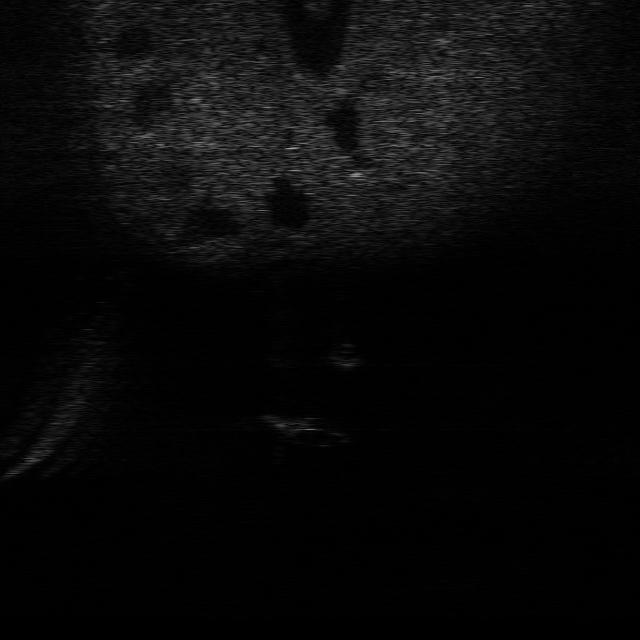ball: (322, 338, 370, 372)
square cage: (252, 404, 322, 438)
tyre: (300, 422, 358, 451)
